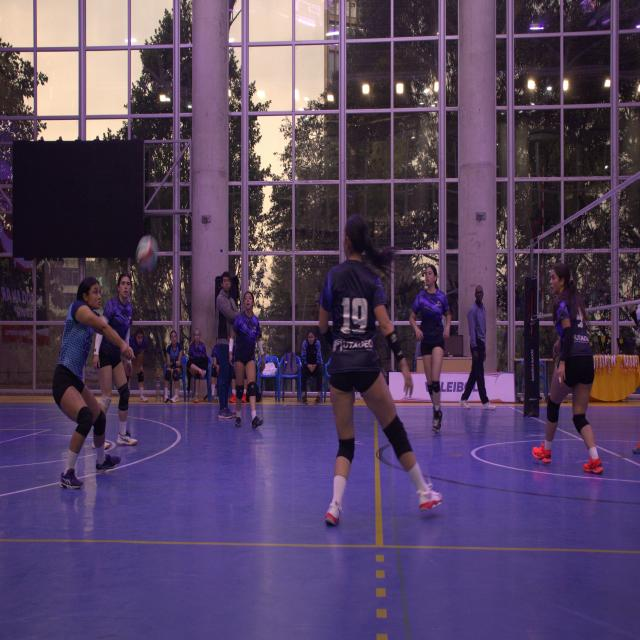volleyball: (137, 240, 158, 272)
